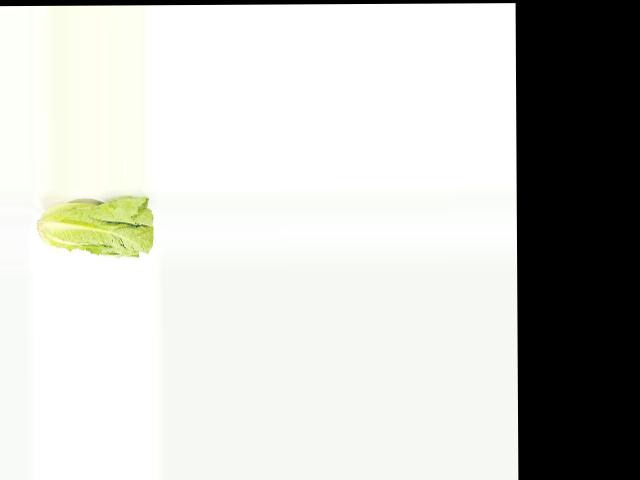lettuce: (35, 195, 154, 260)
